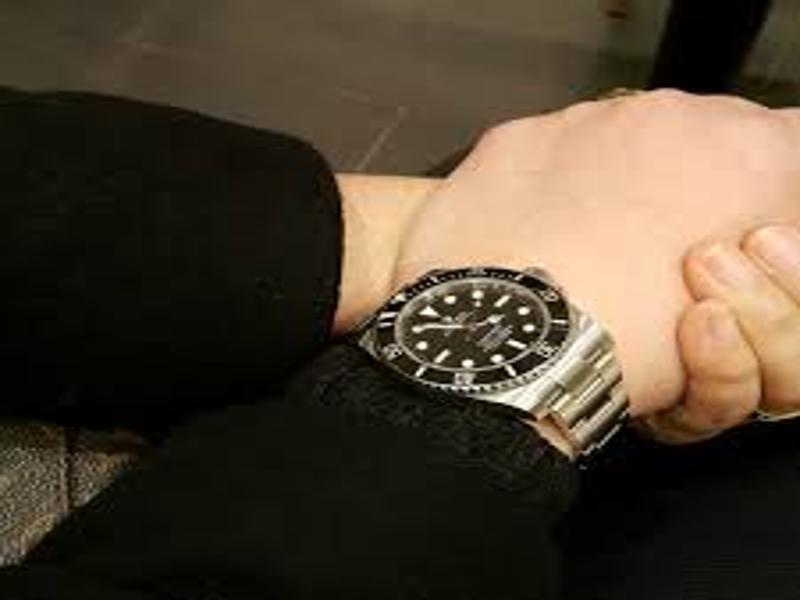watch: (343, 261, 632, 463)
